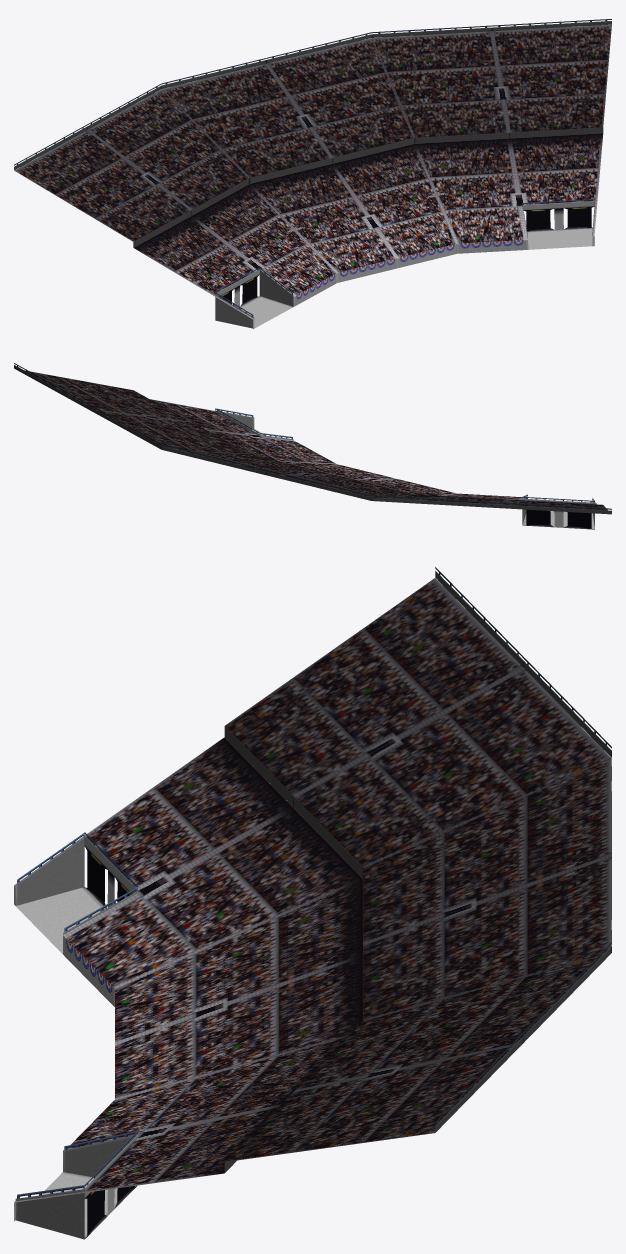
File: part_01_off_01FCC.obj
3 views of the same model, one above another, from view 1: azimuth 30°, elevation 25°; view 2: azimuth 150°, elevation 25°; view 3: azimuth 270°, elevation 25° (orthographic). The views are drawn at different scales.
Bounding box in the file's own units: 148 × 28.2 × 67.25.
Materials: 7 (7 with a texture image).
